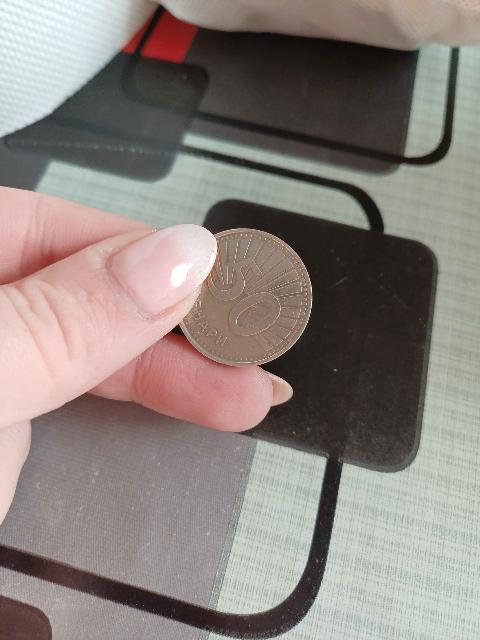50_coin: (180, 229, 311, 366)
